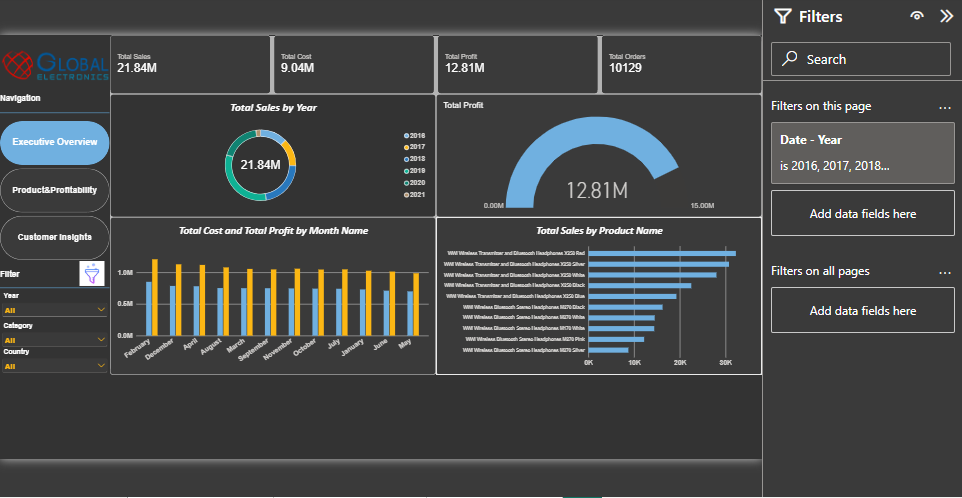

Layout of this report page (visuals, bound fields, positions):
{"tool":"powerbi","page":{"name":"Executive Overview","canvas":[1800,1000],"ordinal":0},"visuals":[{"type":"shape","box":[259.8,2.4,1540.2,798.4],"z":0},{"type":"image","box":[0,0,259.1,139.6],"z":1000},{"type":"textbox","box":[0,139.6,259.1,38.6],"z":2000},{"type":"shape","box":[0,178.2,259.1,12.9],"z":3000},{"type":"pageNavigator","box":[0,202.1,259.1,330.7],"z":4000},{"type":"textbox","box":[0,554.9,259.1,36.7],"z":5000},{"type":"shape","box":[0,591.6,259.1,12.9],"z":6000},{"type":"image","box":[174.5,532.8,84.5,58.8],"z":7000},{"type":"slicer","fields":{"Values":["Calendar.Date.Variation.Date Hierarchy.Year"]},"box":[0,604.5,259.1,60.6],"z":8000},{"type":"slicer","fields":{"Values":["Products.Category"]},"box":[0,678,259.1,60.6],"z":9000},{"type":"slicer","fields":{"Values":["Customers.Country"]},"box":[0,738.6,259.1,60.6],"z":10000},{"type":"cardVisual","fields":{"Data":["_Measures.Total Sales","_Measures.Total Cost","_Measures.Total Profit","_Measures.Total Orders"]},"box":[259.8,0,1540.2,139.4],"z":11000},{"type":"donutChart","fields":{"Category":["Calendar.Date.Variation.Date Hierarchy.Year"],"Y":["_Measures.Total Sales"]},"box":[259.8,139.4,770.1,290.6],"z":12000},{"type":"clusteredColumnChart","fields":{"Category":["Calendar.Month Name"],"Y":["_Measures.Total Cost","_Measures.Total Profit"]},"box":[259.8,429.9,770.1,373.2],"z":13000},{"type":"clusteredBarChart","fields":{"Category":["Products.Product Name"],"Y":["_Measures.Total Sales"]},"box":[1029.9,429.9,770.1,373.2],"z":14000},{"type":"gauge","fields":{"Y":["_Measures.Total Profit"]},"box":[1029.9,139.4,770.1,290.6],"z":15000}]}

Visuals, with their boxes on the page's 1800x1000 design canvas (x1, y1, x2, y2). These are canvas units, not pixel positions in the 962x498 screenshot, which may show the page scaled, cropped or inside an application window:
shape: x1=260, y1=2, x2=1800, y2=801
image: x1=0, y1=0, x2=259, y2=140
textbox: x1=0, y1=140, x2=259, y2=178
shape: x1=0, y1=178, x2=259, y2=191
pageNavigator: x1=0, y1=202, x2=259, y2=533
textbox: x1=0, y1=555, x2=259, y2=592
shape: x1=0, y1=592, x2=259, y2=604
image: x1=174, y1=533, x2=259, y2=592
slicer - Calendar.Date.Variation.Date Hierarchy.Year: x1=0, y1=604, x2=259, y2=665
slicer - Products.Category: x1=0, y1=678, x2=259, y2=739
slicer - Customers.Country: x1=0, y1=739, x2=259, y2=799
cardVisual - _Measures.Total Sales x _Measures.Total Cost: x1=260, y1=0, x2=1800, y2=139
donutChart - Calendar.Date.Variation.Date Hierarchy.Year x _Measures.Total Sales: x1=260, y1=139, x2=1030, y2=430
clusteredColumnChart - Calendar.Month Name x _Measures.Total Cost: x1=260, y1=430, x2=1030, y2=803
clusteredBarChart - Products.Product Name x _Measures.Total Sales: x1=1030, y1=430, x2=1800, y2=803
gauge - _Measures.Total Profit: x1=1030, y1=139, x2=1800, y2=430
